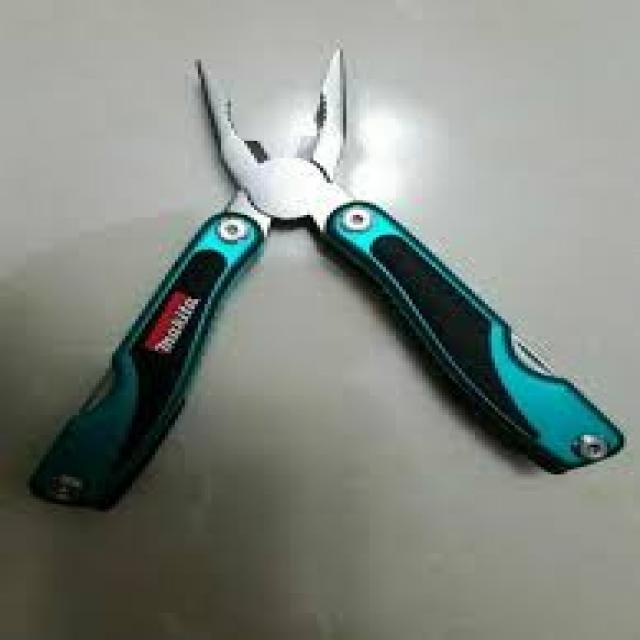pliers: (22, 35, 634, 517)
